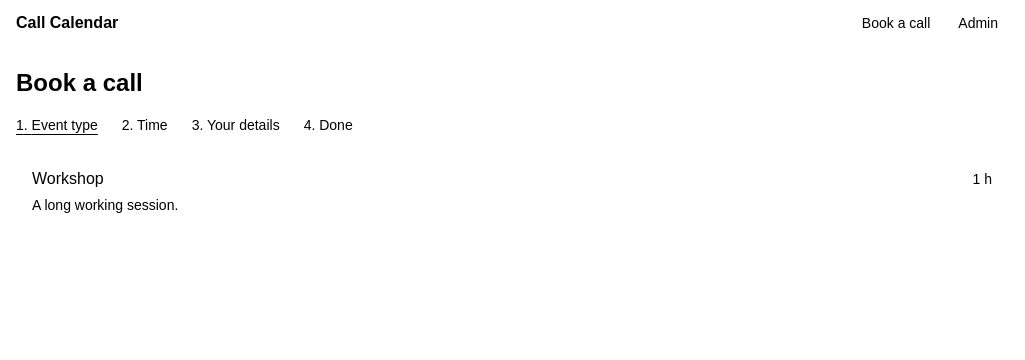
Test: booking page, step 2: time › shows an error with Retry when loading fails, and loads again on Retry
What coordinates should you click on to do the following:
click the button "Workshop 1 h A long working session."
I would click on:
 (68, 178)
Its box is [16,151,1008,231].
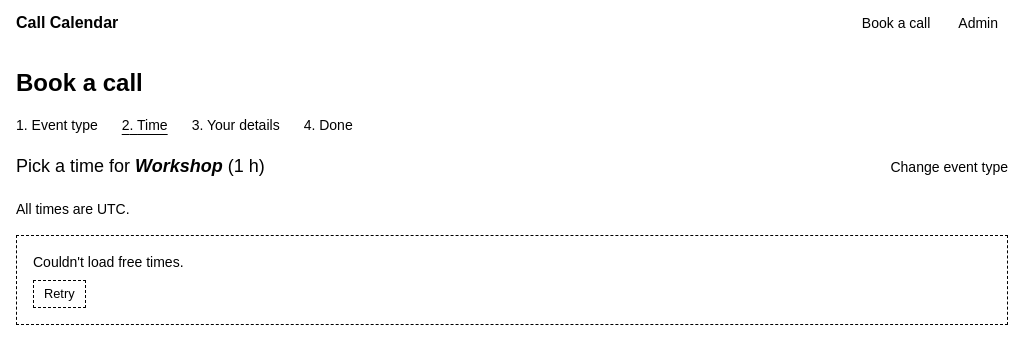
Check: the message shows "Couldn't load free times.", box [33,254,184,270]
What coordinates should you click on to do the following:
click the button "Retry"
I would click on:
 (59, 294)
Its box is [33,280,86,308].
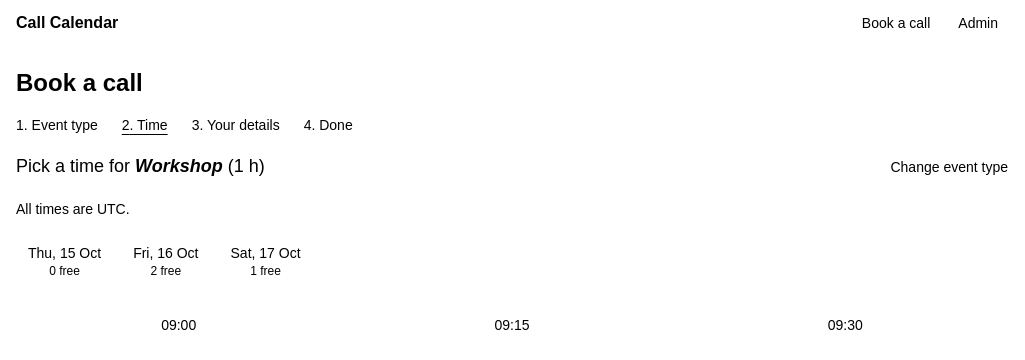
Check: the list named "Start times" is shown, box [16,307,1008,343]
Check: the message "Couldn't load free times. Retry" is gone
